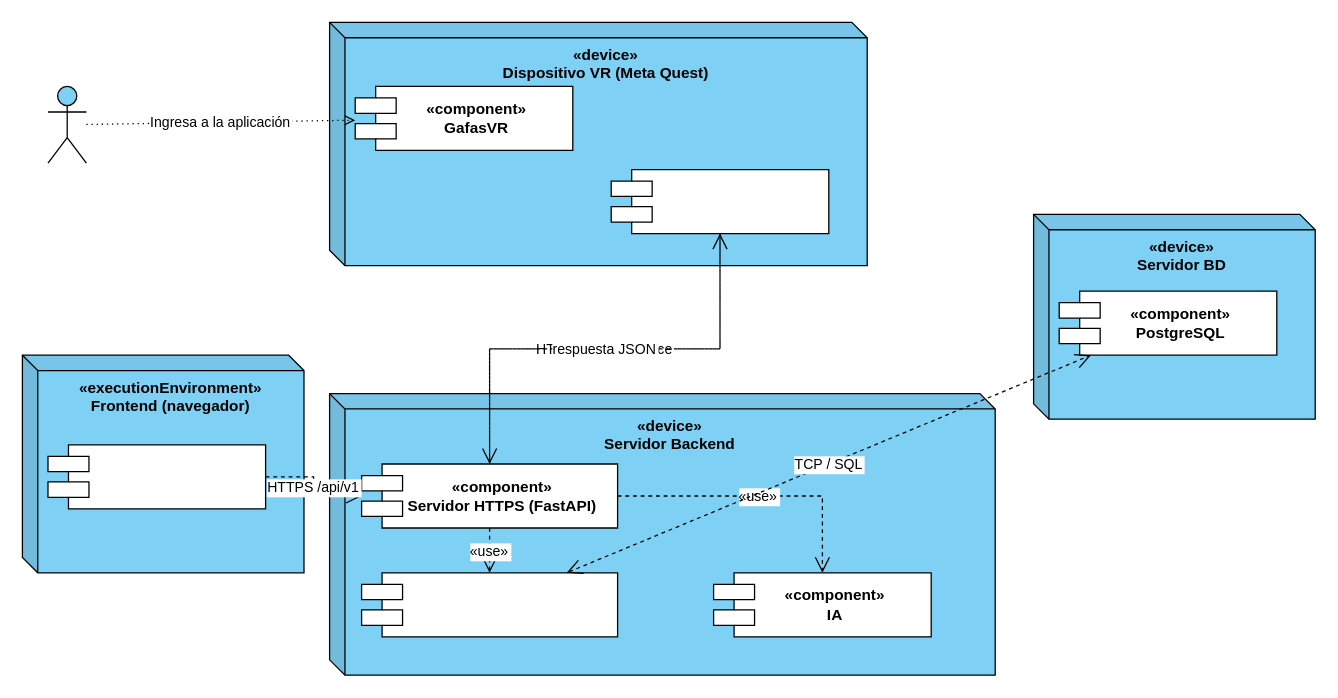
The diagram is 1338 pixels wide and 698 high, and some of its shapes have lost their labels. The centre of each missing label's shape, as x and y in pixels:
"Paciente" goes at point (66, 124).
"«component» App Unity" goes at point (719, 201).
"«component» Interfaz BD (SQLAlchemy)" goes at point (489, 604).
"«component» Interfaz web (React)" goes at point (156, 476).
